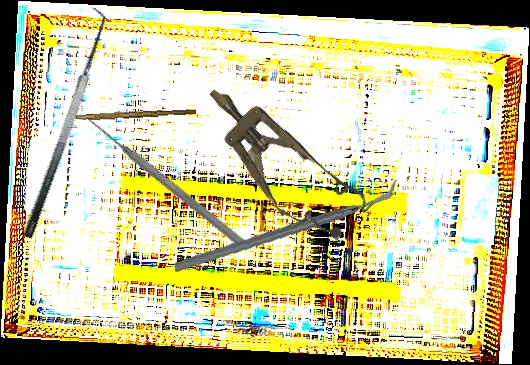Chopper: (174, 160, 398, 293)
Pusher: (84, 113, 250, 252)
Scalpel Handle: (75, 106, 197, 124)
Spatula Surgical: (3, 5, 119, 240)
Speculum: (184, 64, 377, 256)
